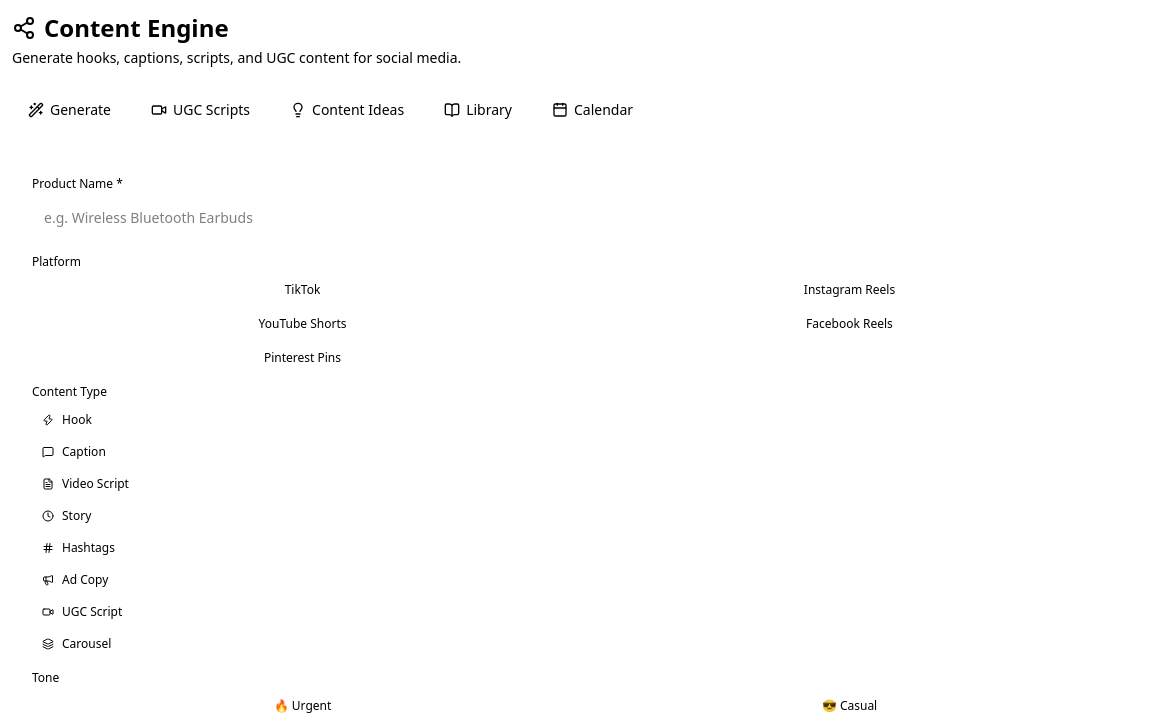
Test: SocialContentPage › shows empty library message
Click the button "Library" at (478, 110), box [428,92,528,128]
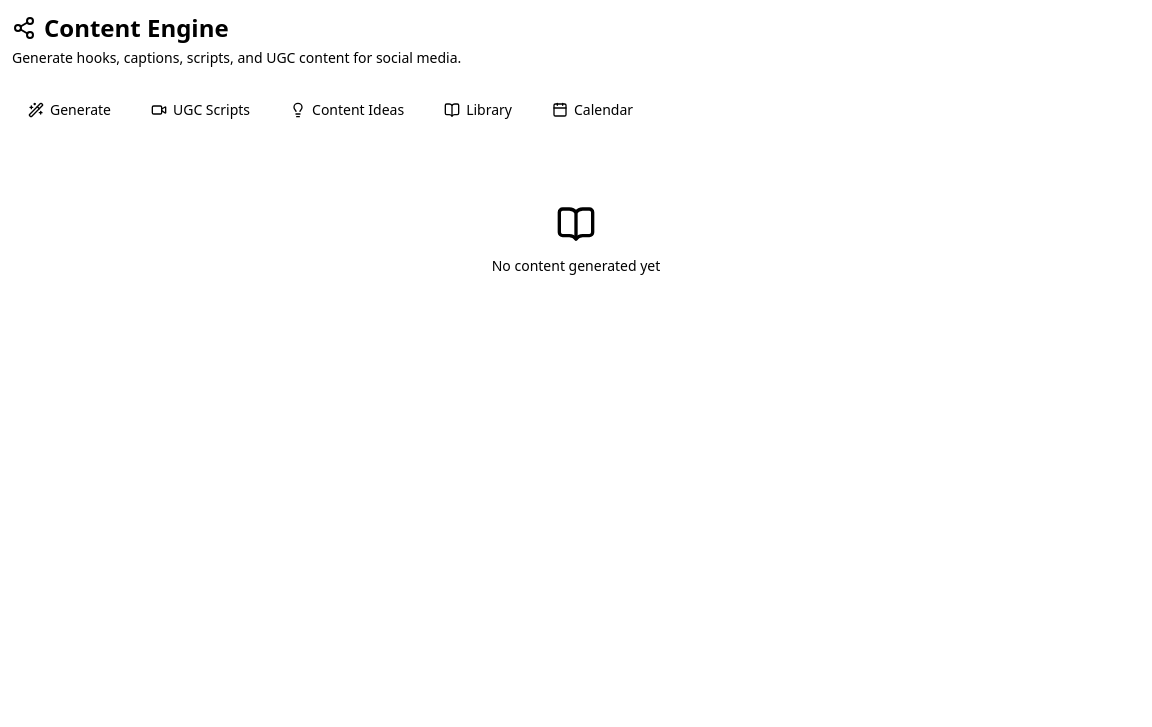
Result: the text "No content generated yet" is shown at [492,256,660,275]
